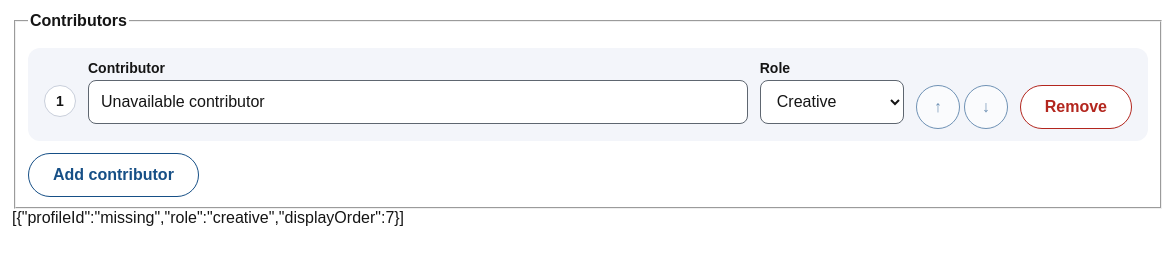
Test: restores the selected contributor label when uncommitted text loses focus
The image size is (1164, 264).
Replace the text in the dropdown named "Contributor 1" with "Different person": (418, 102) [88,80,748,124]
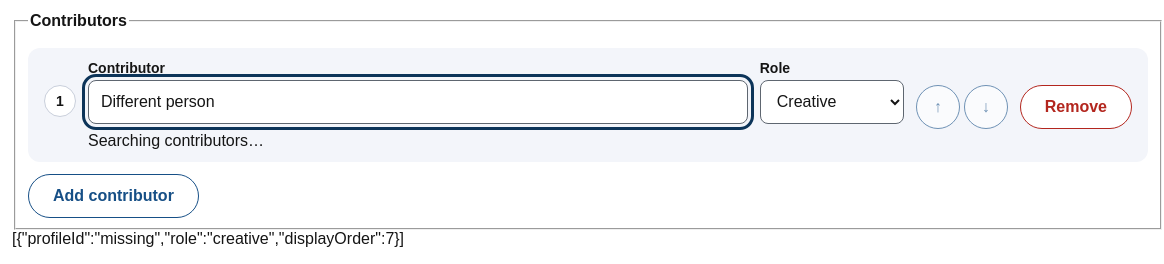
Press Tab
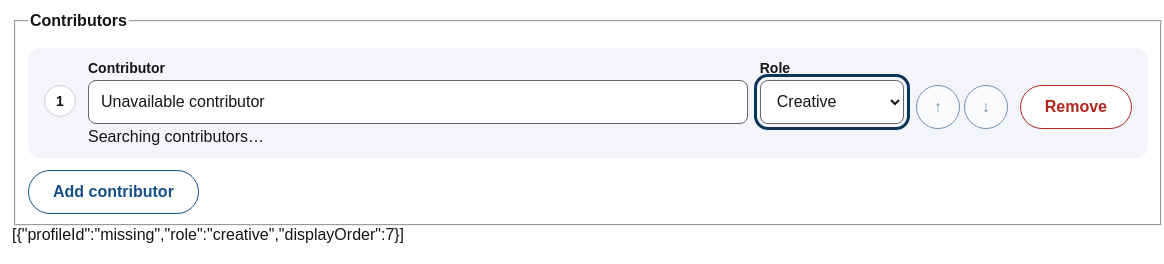
Expected: the text named "Selected credits" shows "\"profileId\":\"missing\"", [12,226,404,243]
Now the dropdown named "Contributor 1" holds "Unavailable contributor", box [88,80,748,124]
